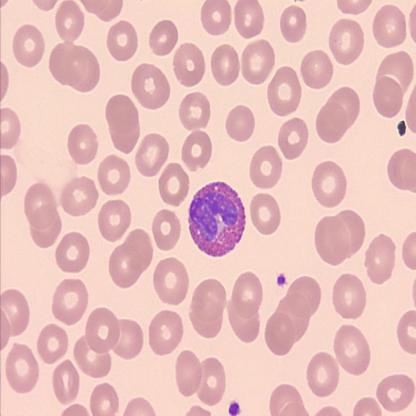Eosinophil: (188, 178, 245, 258)
